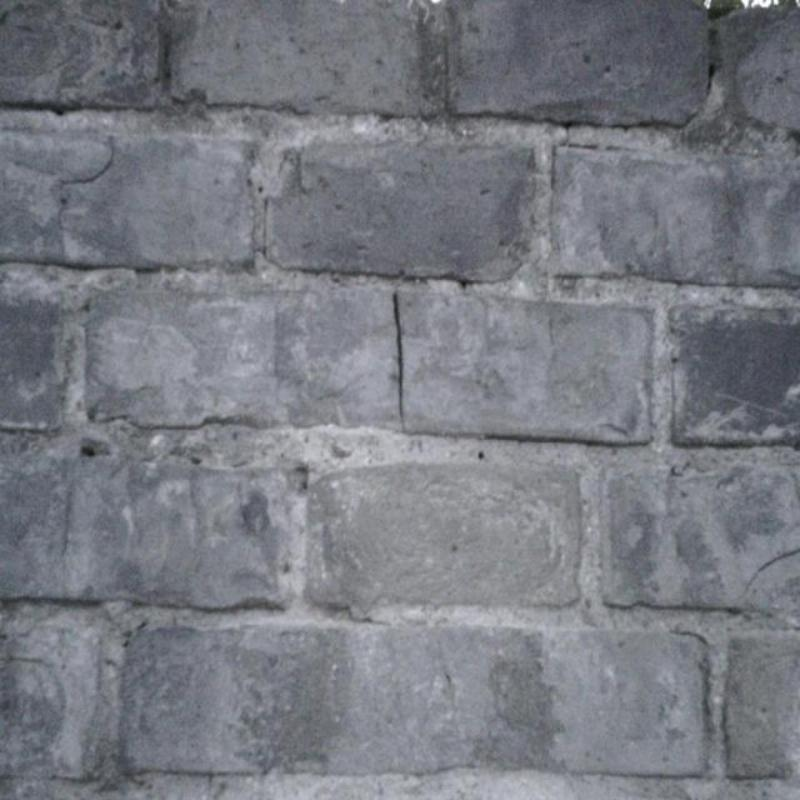pothole: (741, 549, 799, 595), (61, 138, 116, 184), (394, 294, 403, 428)
